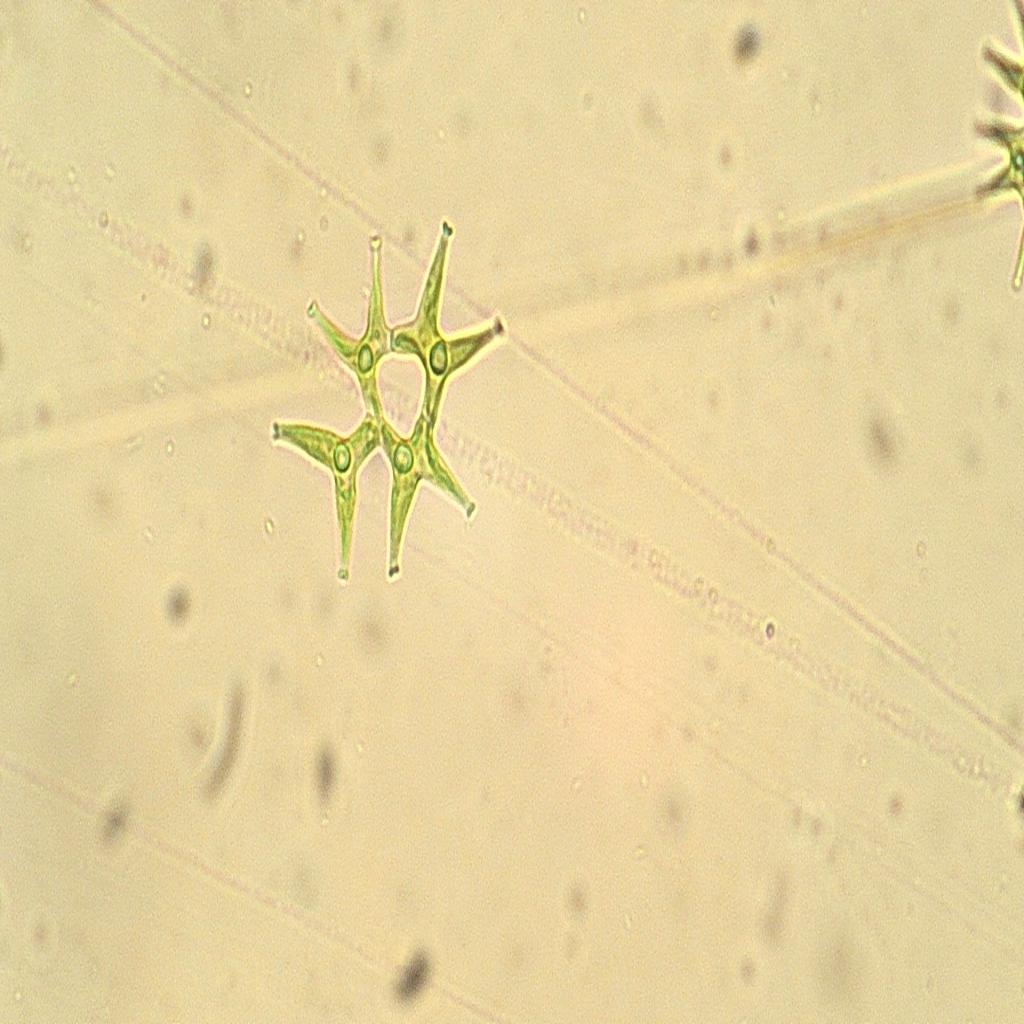Pediastrum_75FI: (253, 210, 542, 602)
